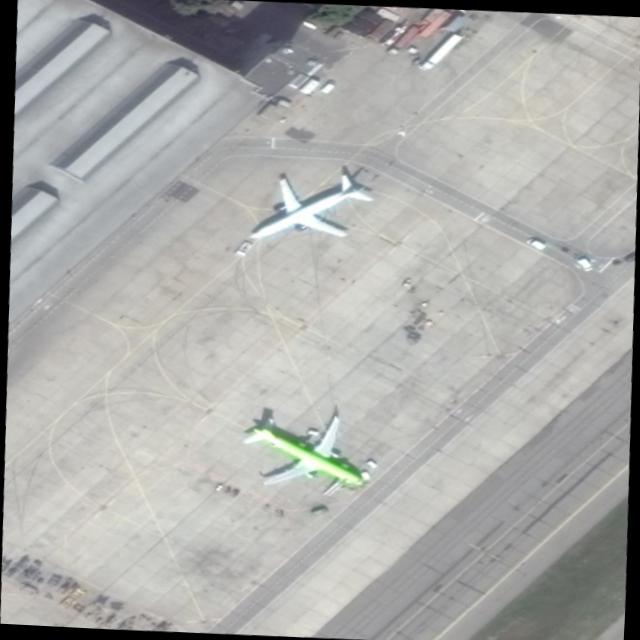plane: (221, 397, 394, 511), (219, 157, 390, 266)
ship: (417, 32, 461, 70), (384, 24, 420, 55)
small-vehicle: (316, 78, 338, 94), (524, 236, 546, 251), (576, 256, 594, 272)
